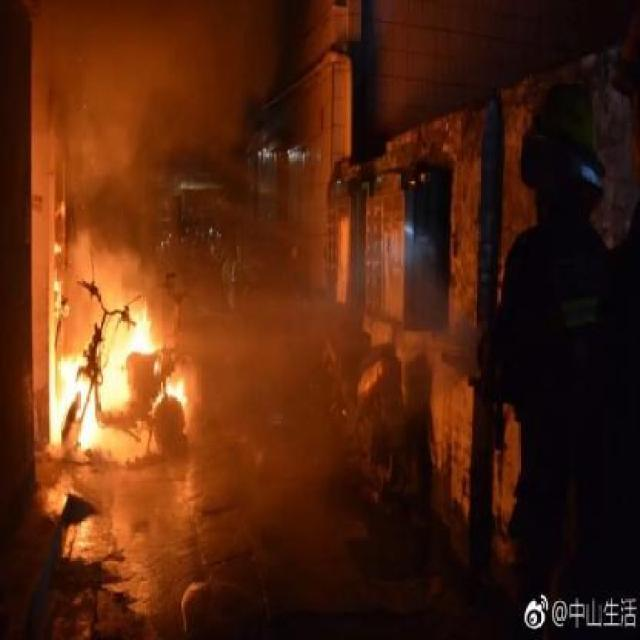Fire: (102, 308, 155, 414), (50, 358, 96, 442), (130, 307, 156, 355), (164, 376, 190, 406)
Smoke: (47, 14, 176, 200), (68, 217, 144, 348)
